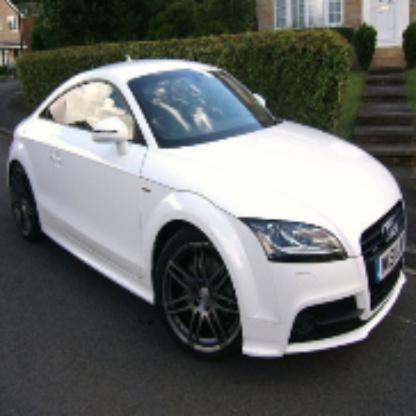Vehicle: (6, 55, 412, 370)
